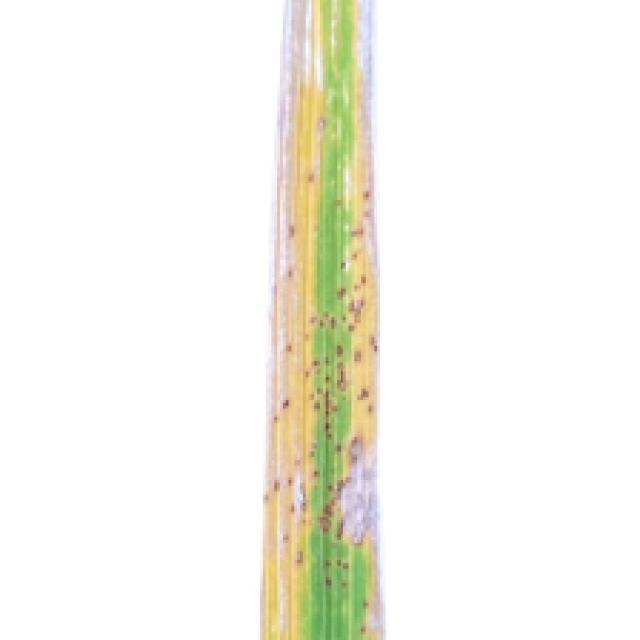Rice___Brown_Spot: (262, 0, 389, 637)
